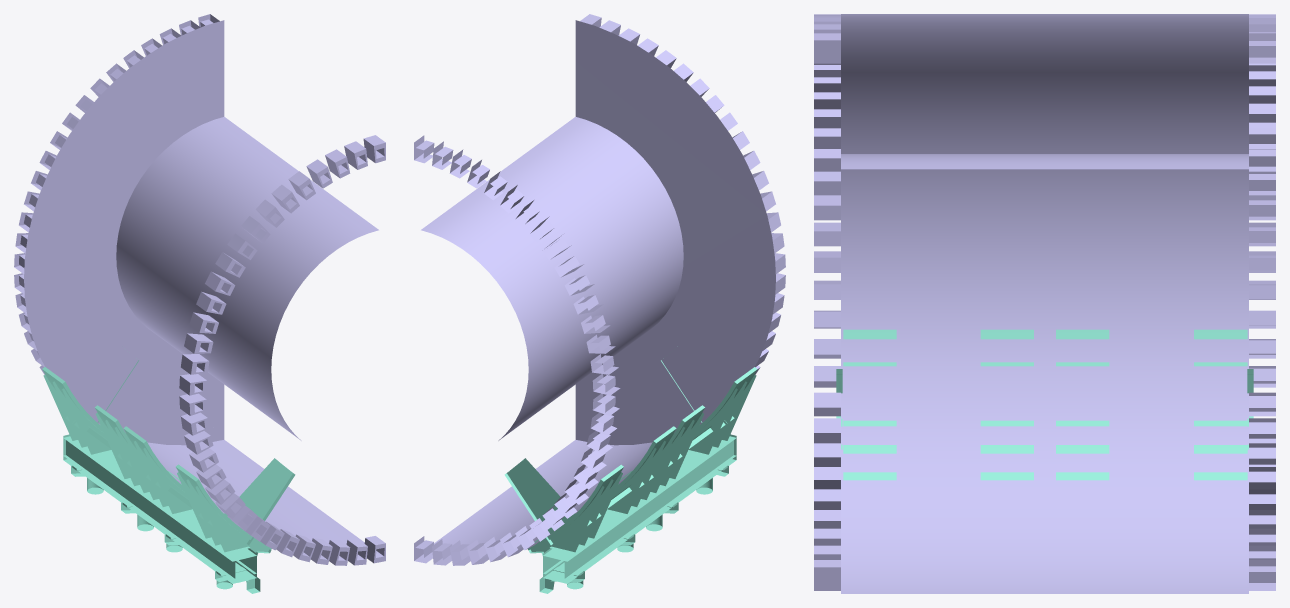
File: calorimeter-tile-barrel-cut-2.glb
3 renders of one model, left to right at view 1: azimuth 30°, elevation 25°; view 2: azimuth 150°, elevation 25°; view 3: azimuth 270°, elevation 25°, orthographic. The views are drawn at different scales.
Parts seen in each view (by area): view 1: Mesh_0.001, Mesh_1.001; view 2: Mesh_0.001, Mesh_1.001; view 3: Mesh_0.001, Mesh_1.001.
Boxes of the visible parts, bbox=[...] form: Mesh_0.001: bbox=[14, 14, 385, 565]; Mesh_1.001: bbox=[42, 358, 295, 593]; Mesh_0.001: bbox=[414, 14, 785, 565]; Mesh_1.001: bbox=[504, 360, 757, 593]; Mesh_0.001: bbox=[814, 14, 1275, 593]; Mesh_1.001: bbox=[836, 329, 1253, 480].
Size of the model in its own units: 4.24 by 8.73 by 6.43.
